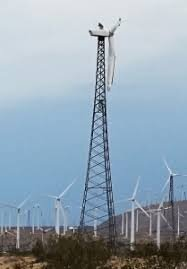faulty: (88, 13, 128, 94)
